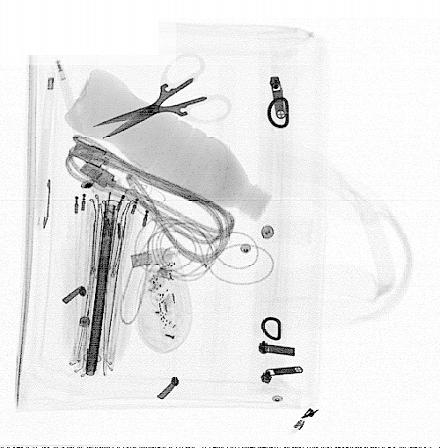Scissors: (90, 50, 234, 140)
